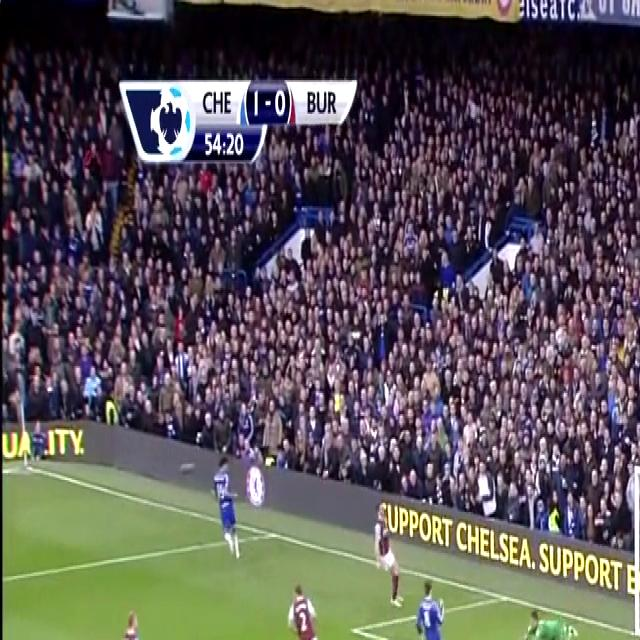ball: (514, 634, 528, 640)
goalkeeper: (511, 592, 587, 640)
soccer-player: (366, 492, 400, 622), (214, 448, 251, 562), (281, 567, 336, 640), (410, 574, 456, 640), (115, 601, 170, 640)
